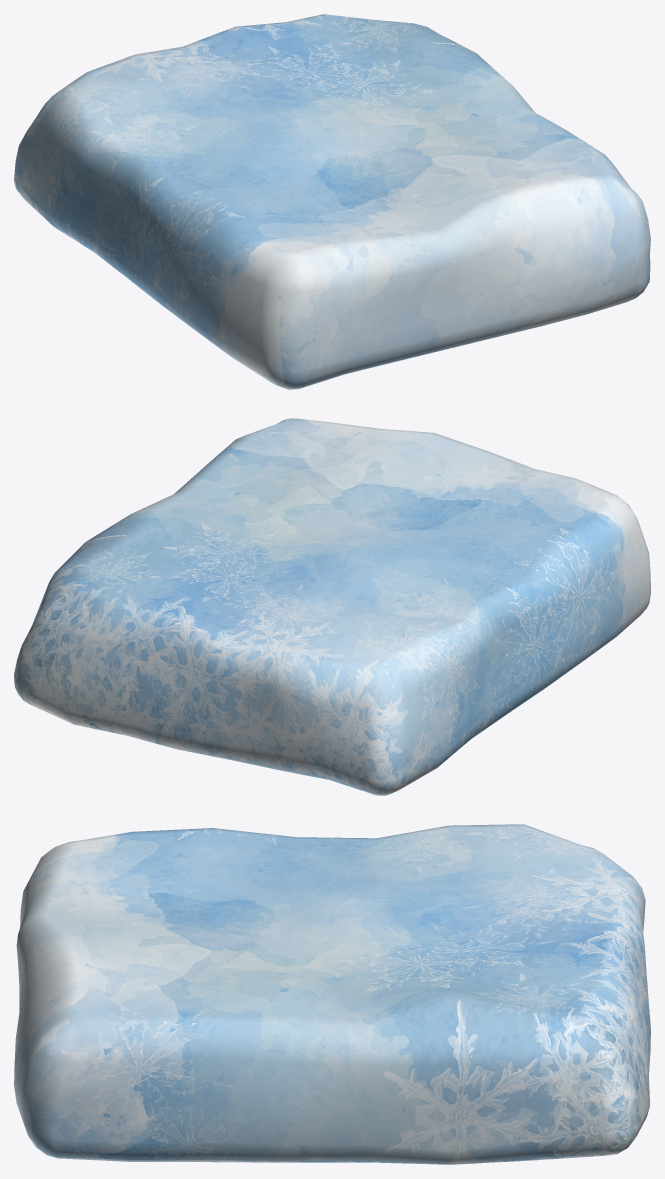
Rendered from IceCube.fbx.
The picture shows the model from 3 angles, top to bottom: view 1: azimuth 30°, elevation 25°; view 2: azimuth 150°, elevation 25°; view 3: azimuth 270°, elevation 25°; orthographic projection. The views are drawn at different scales.
Visible parts, largest first — view 1: Ice; view 2: Ice; view 3: Ice.
Boxes of the visible parts, x1,y1,x2,y2 form: Ice: (14,14,650,389); Ice: (14,418,650,795); Ice: (14,824,650,1164).
Bounding box in the file's own units: 5.06 × 1.62 × 6.
